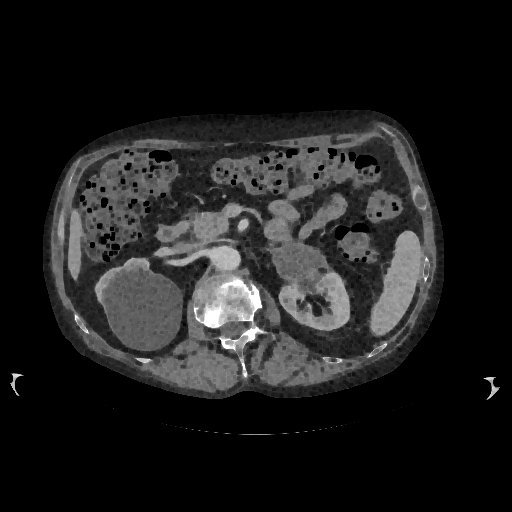Lesion: (267, 239, 334, 287)
